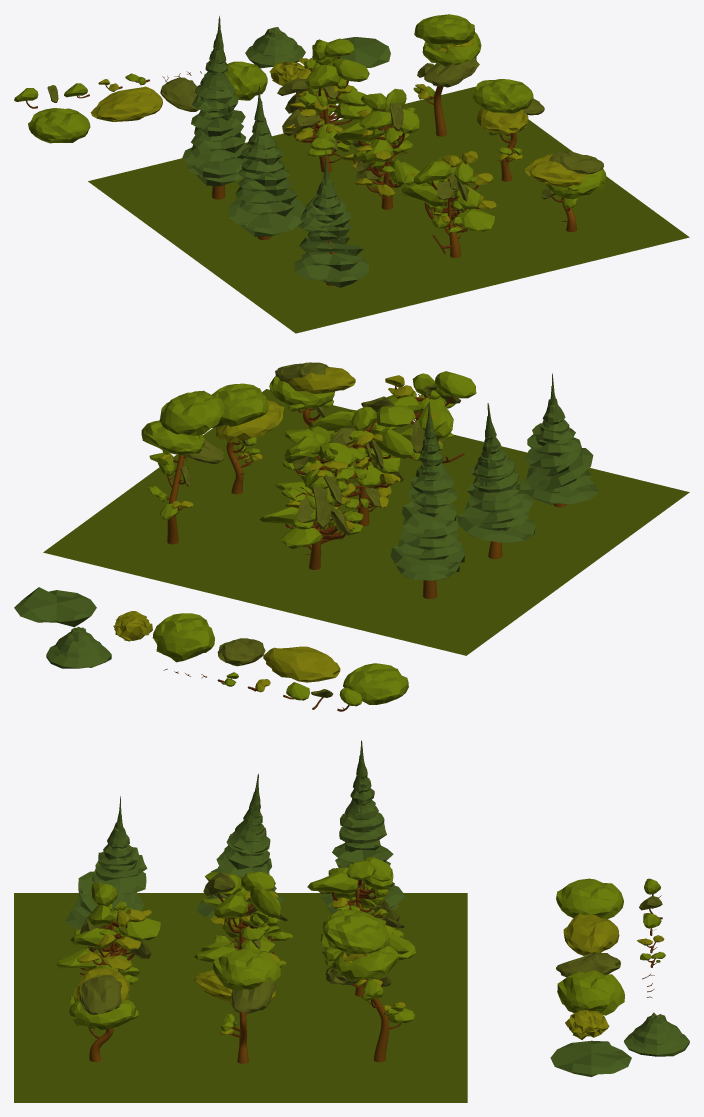
Rendered from procedural_tree_generator.glb.
3 renders of one model, top to bottom at view 1: azimuth 30°, elevation 25°; view 2: azimuth 150°, elevation 25°; view 3: azimuth 270°, elevation 25°, orthographic. The views are drawn at different scales.
Visible parts, largest first — view 1: Plane_5, foliage 2_258, foliage 1_257, foliage 4.001_216, foliage 6.010_32, foliage 7_263, foliage 1.002_223, foliage 6.017_39, foliage 4_260, foliage 2.002_218, foliage 6_262, foliage 4.002_221 (+30 smaller); view 2: Plane_5, foliage 4_260, foliage 1.002_223, foliage 6_262, foliage 2_258, foliage 1_257, foliage 7_263, foliage 4.001_216, foliage 4.002_221, foliage 2.001_214, foliage 2.002_218, Tree set 1.002_242 (+28 smaller); view 3: Plane_5, foliage 1.002_223, foliage 4_260, foliage 4.001_216, foliage 6_262, foliage 1_257, foliage 7_263, foliage 2_258, foliage 4.002_221, Tree set 1.002_242, foliage 3.002_219, foliage 1.001_217 (+16 smaller).
Boxes of the visible parts, <box> form: Plane_5: <box>88,86,689,333</box>; foliage 2_258: <box>90,86,162,121</box>; foliage 1_257: <box>28,108,90,143</box>; foliage 4.001_216: <box>471,79,533,113</box>; foliage 6.010_32: <box>228,198,305,236</box>; foliage 7_263: <box>245,27,305,68</box>; foliage 1.002_223: <box>414,14,474,44</box>; foliage 6.017_39: <box>294,258,368,287</box>; foliage 4_260: <box>224,61,267,100</box>; foliage 2.002_218: <box>525,154,586,187</box>; foliage 6_262: <box>335,37,390,67</box>; foliage 4.002_221: <box>422,32,481,66</box>; Plane_5: <box>43,389,689,655</box>; foliage 4_260: <box>152,613,214,662</box>; foliage 1.002_223: <box>160,390,224,435</box>; foliage 6_262: <box>14,587,96,627</box>; foliage 2_258: <box>263,646,340,682</box>; foliage 1_257: <box>343,663,408,704</box>; foliage 7_263: <box>46,626,111,668</box>; foliage 4.001_216: <box>212,383,268,426</box>; foliage 4.002_221: <box>141,420,204,454</box>; foliage 2.001_214: <box>215,400,284,442</box>; foliage 2.002_218: <box>288,367,355,393</box>; Tree set 1.002_242: <box>167,408,313,544</box>; Plane_5: <box>14,893,467,1102</box>; foliage 1.002_223: <box>323,909,389,954</box>; foliage 4_260: <box>557,970,624,1015</box>; foliage 4.001_216: <box>213,947,280,990</box>; foliage 6_262: <box>550,1040,631,1076</box>; foliage 1_257: <box>556,878,623,919</box>; foliage 7_263: <box>624,1012,689,1056</box>; foliage 2_258: <box>563,914,619,955</box>; foliage 4.002_221: <box>332,945,399,980</box>; Tree set 1.002_242: <box>89,979,388,1063</box>; foliage 3.002_219: <box>79,975,121,1014</box>; foliage 1.001_217: <box>69,999,136,1029</box>.
Size of the model in its own units: 21.66 by 10.03 by 29.5.
